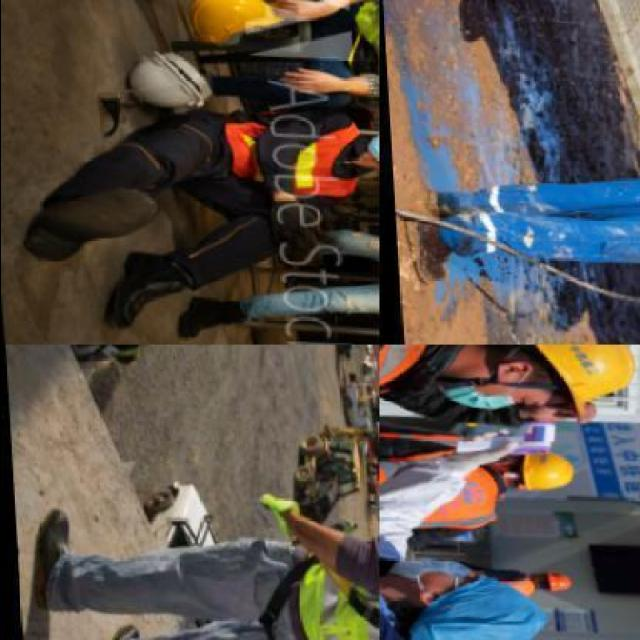helmet: (528, 340, 640, 431), (514, 442, 576, 496), (542, 559, 576, 597)
